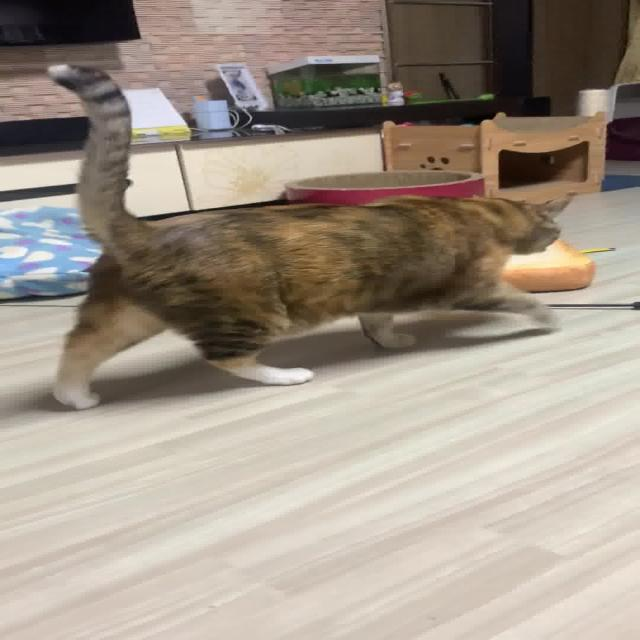cat: (27, 56, 569, 413)
